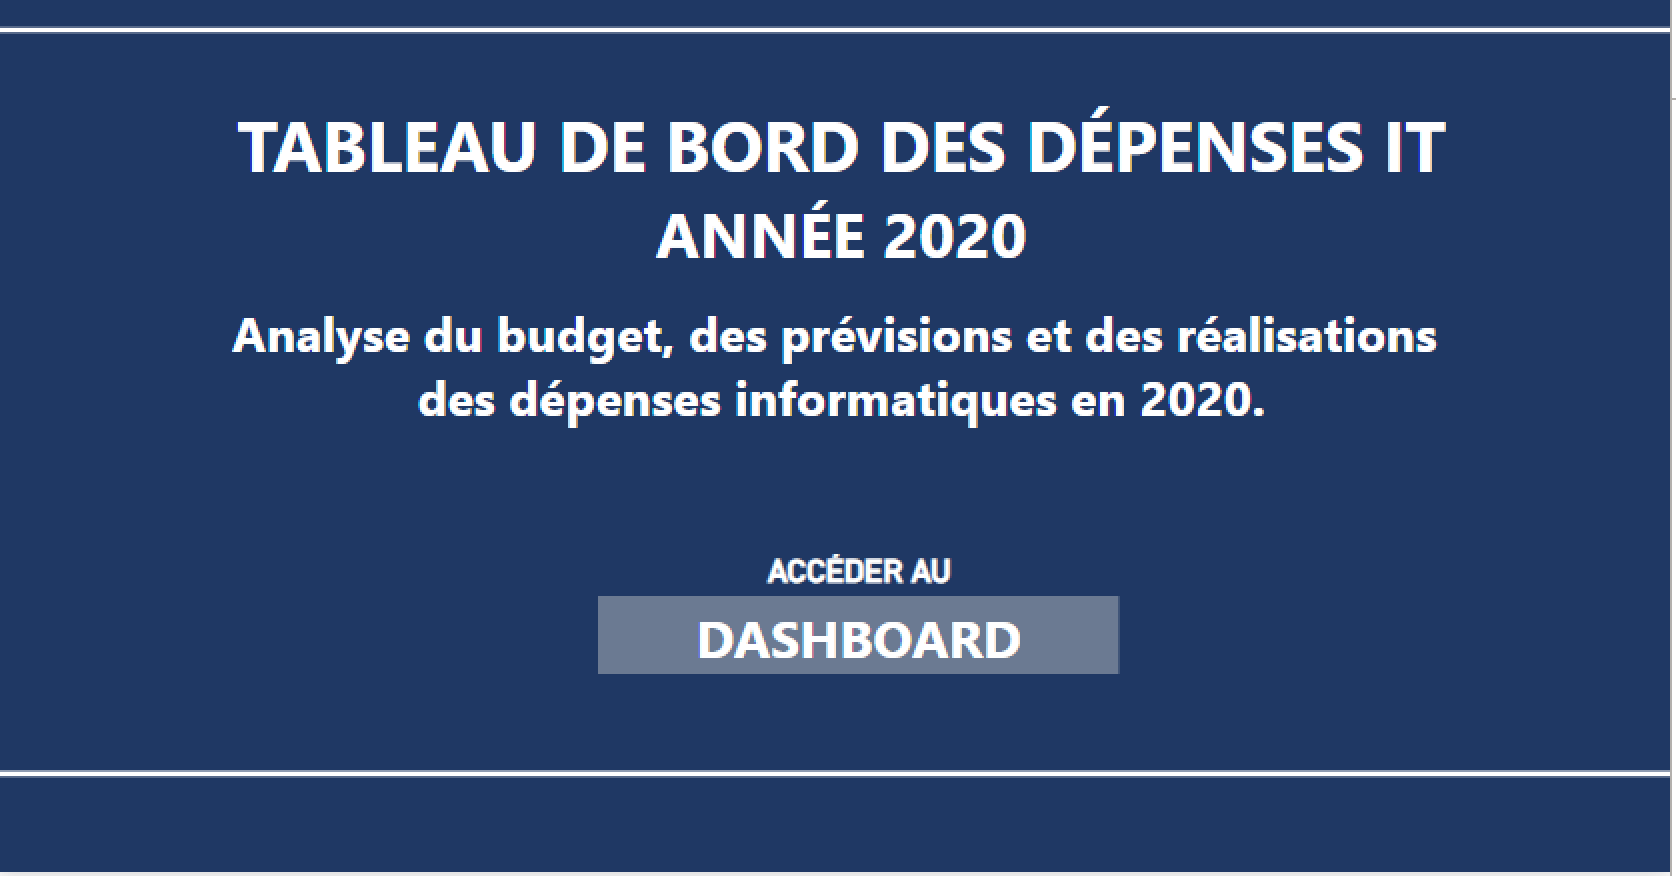

Layout of this report page (visuals, bound fields, positions):
{"tool":"powerbi","page":{"name":"ACCUEIL","canvas":[1280,720],"ordinal":1},"visuals":[{"type":"textbox","box":[10.1,120.4,1269.9,145.1],"z":0},{"type":"textbox","box":[10.1,277.3,1269.9,123.7],"z":1000},{"type":"pageNavigator","title":"ACCÉDER AU","box":[458.9,475.8,399.9,92.8],"z":2000},{"type":"shape","box":[0,570.3,1280,149.6],"z":3000},{"type":"shape","box":[0,0,1280,150.2],"z":4000}]}

Visuals, with their boxes on the page's 1280x720 design canvas (x1, y1, x2, y2). These are canvas units, not pixel positions in the 1676x876 screenshot, which may show the page scaled, cropped or inside an application window:
textbox: [x1=10, y1=120, x2=1280, y2=266]
textbox: [x1=10, y1=277, x2=1280, y2=401]
"ACCÉDER AU" pageNavigator: [x1=459, y1=476, x2=859, y2=569]
shape: [x1=0, y1=570, x2=1280, y2=720]
shape: [x1=0, y1=0, x2=1280, y2=150]
